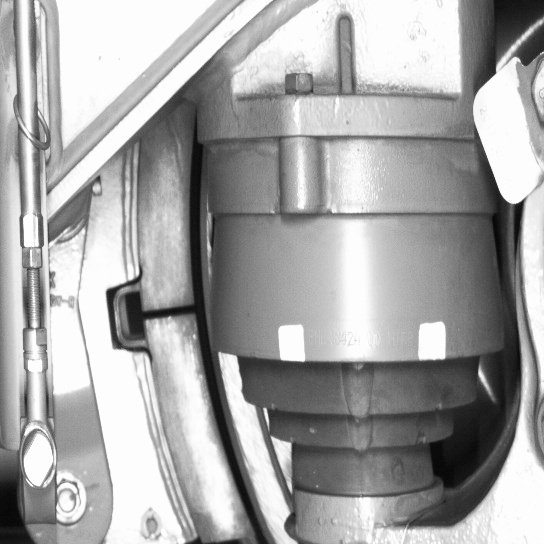KnifeSwitch: (131, 136, 280, 541)
